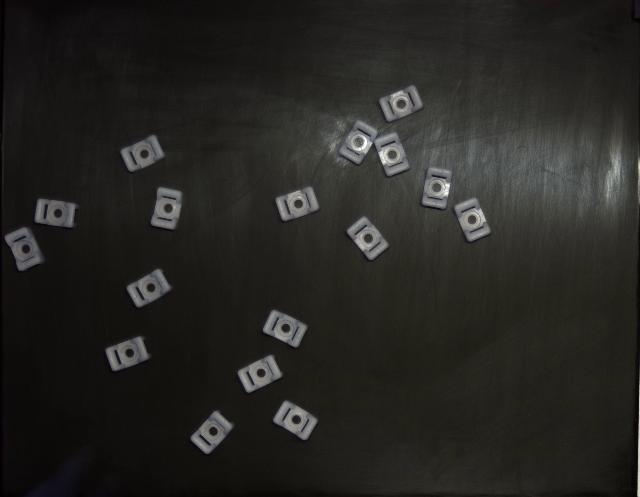first_side: (190, 411, 234, 455), (346, 216, 389, 261), (126, 269, 172, 308), (274, 401, 318, 441), (339, 120, 378, 165), (262, 310, 308, 348), (5, 228, 45, 271), (238, 355, 282, 394), (120, 135, 165, 172), (454, 198, 491, 242), (105, 336, 151, 371), (379, 85, 422, 122), (374, 132, 410, 176), (275, 186, 320, 221), (35, 199, 79, 229), (151, 188, 182, 230), (421, 168, 452, 209)
